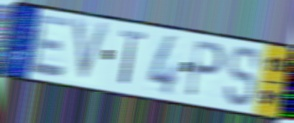4: (147, 33, 179, 98)
E: (28, 12, 74, 79)
P: (185, 38, 227, 100)
S: (224, 45, 262, 109)
T: (119, 28, 148, 88)
V: (71, 16, 113, 87)
